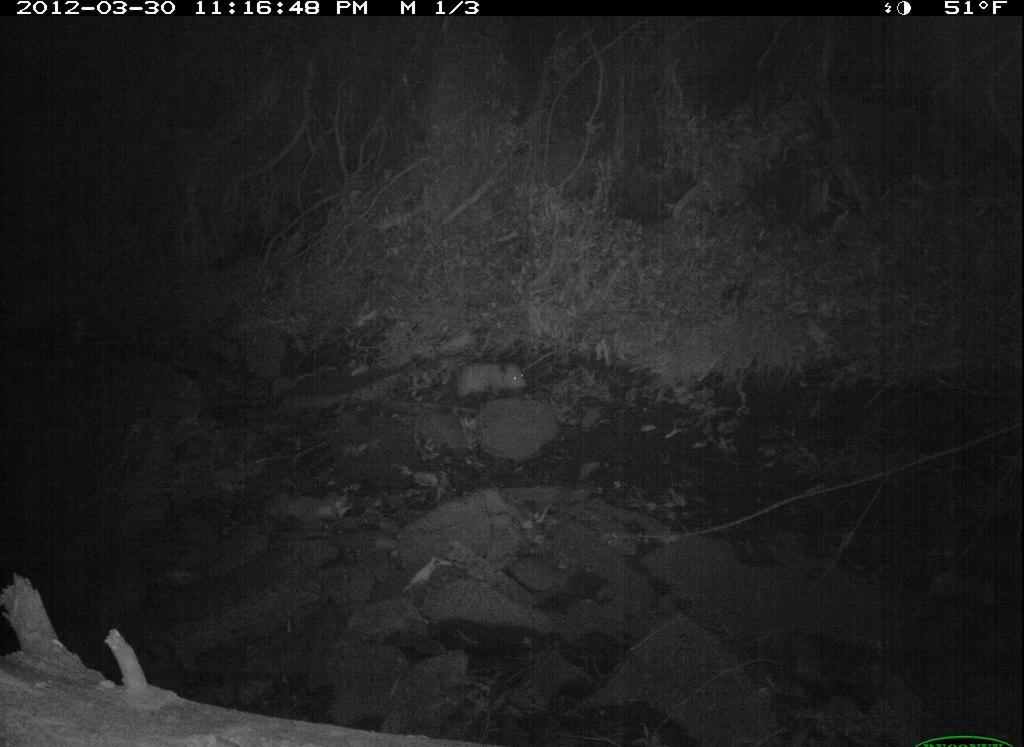opossum: (438, 359, 542, 410)
